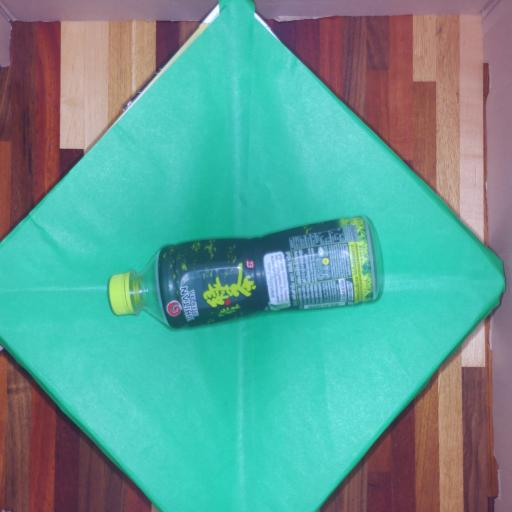bottle: (82, 204, 398, 330)
